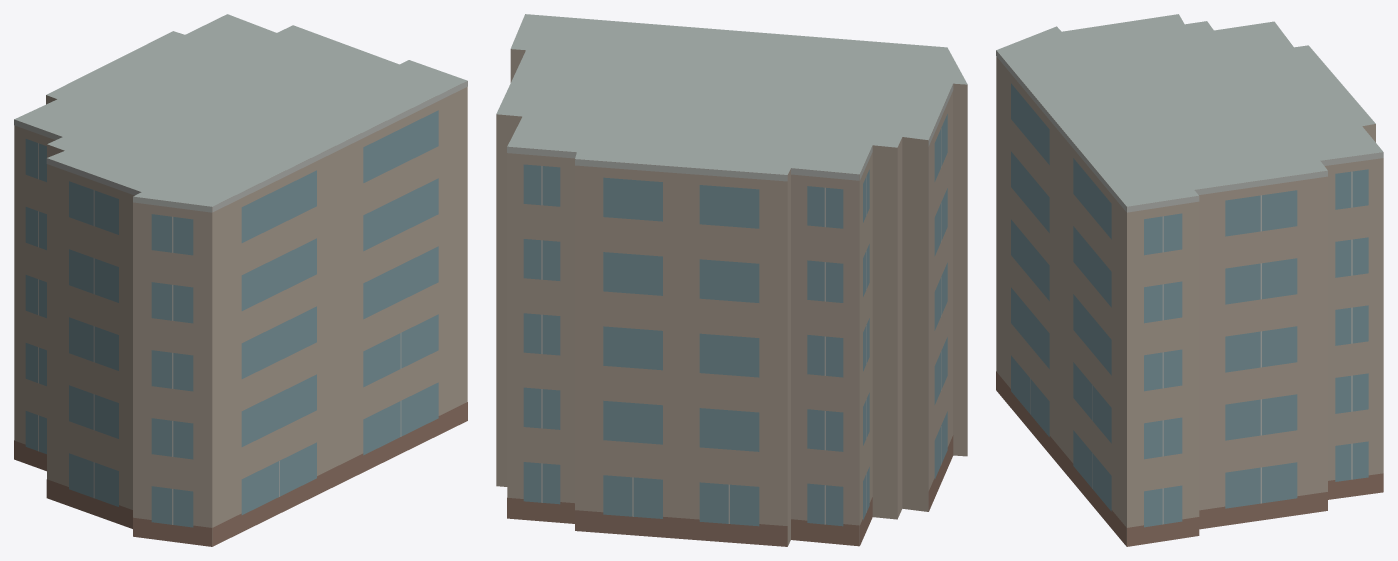
Rendered from survey-upis-32918549.glb.
3 renders of one model, left to right at view 1: azimuth 30°, elevation 25°; view 2: azimuth 150°, elevation 25°; view 3: azimuth 270°, elevation 25°, orthographic. The views are drawn at different scales.
Parts seen in each view (by area): view 1: survey-upis-32918549.tmp; view 2: survey-upis-32918549.tmp; view 3: survey-upis-32918549.tmp.
Boxes of the visible parts, x1,y1,x2,y2 form: survey-upis-32918549.tmp: [14, 14, 467, 546]; survey-upis-32918549.tmp: [496, 14, 967, 546]; survey-upis-32918549.tmp: [996, 14, 1383, 546].
Size of the model in its own units: 17.15 by 14.1 by 14.57.
